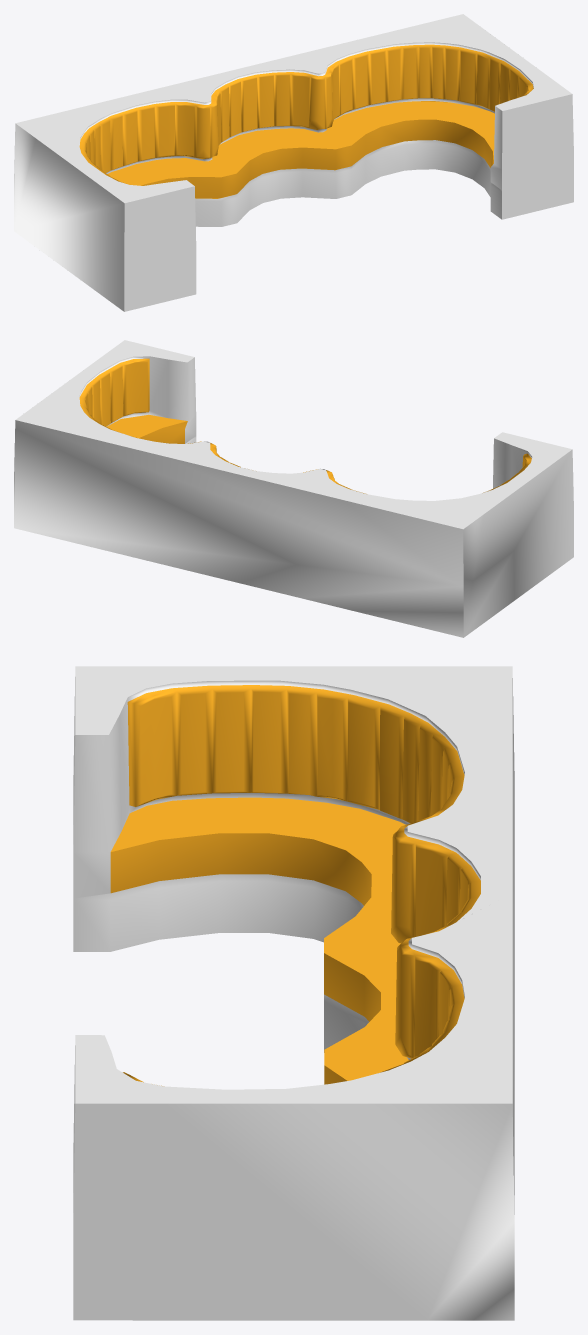
3 views of the same model, one above another, from view 1: azimuth 30°, elevation 25°; view 2: azimuth 150°, elevation 25°; view 3: azimuth 270°, elevation 25° (orthographic). The views are drawn at different scales.
Visible parts, largest first — view 1: BarCouch.003; view 2: BarCouch.003; view 3: BarCouch.003.
Boxes of the visible parts, bbox=[...] form: BarCouch.003: bbox=[14, 14, 573, 311]; BarCouch.003: bbox=[14, 340, 573, 637]; BarCouch.003: bbox=[73, 666, 514, 1320].
Size of what is drawn, in the model's own units: 4.75 by 1.09 by 2.02.
1 material, 1 textured.
